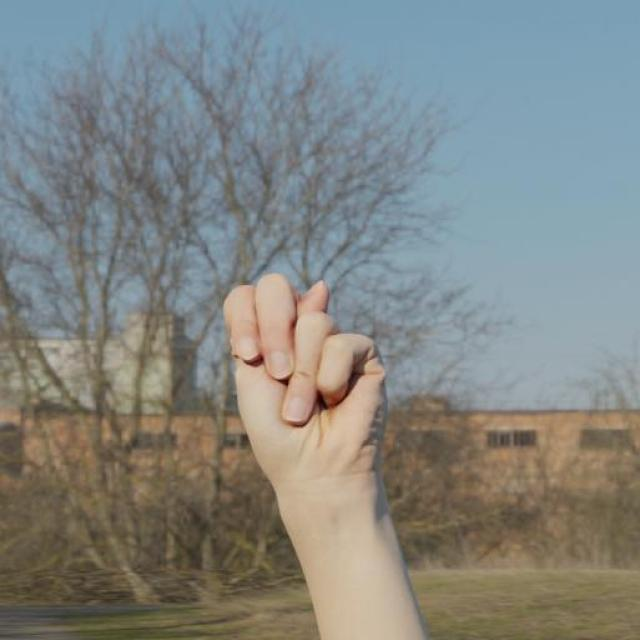N: (218, 271, 387, 478)
